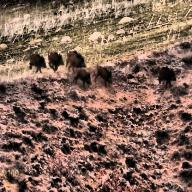boar: (94, 58, 116, 94), (156, 63, 179, 95), (64, 41, 82, 72), (26, 49, 44, 77), (74, 67, 92, 94), (44, 45, 59, 70)
